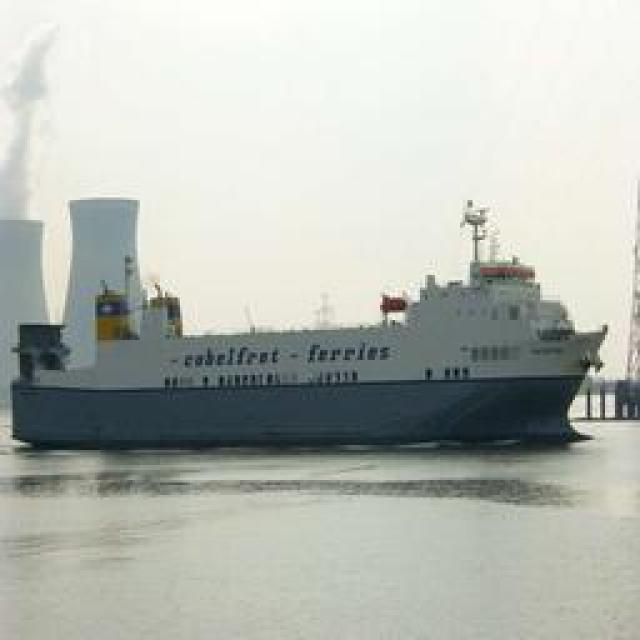CIV_Ship: (9, 191, 602, 444)
